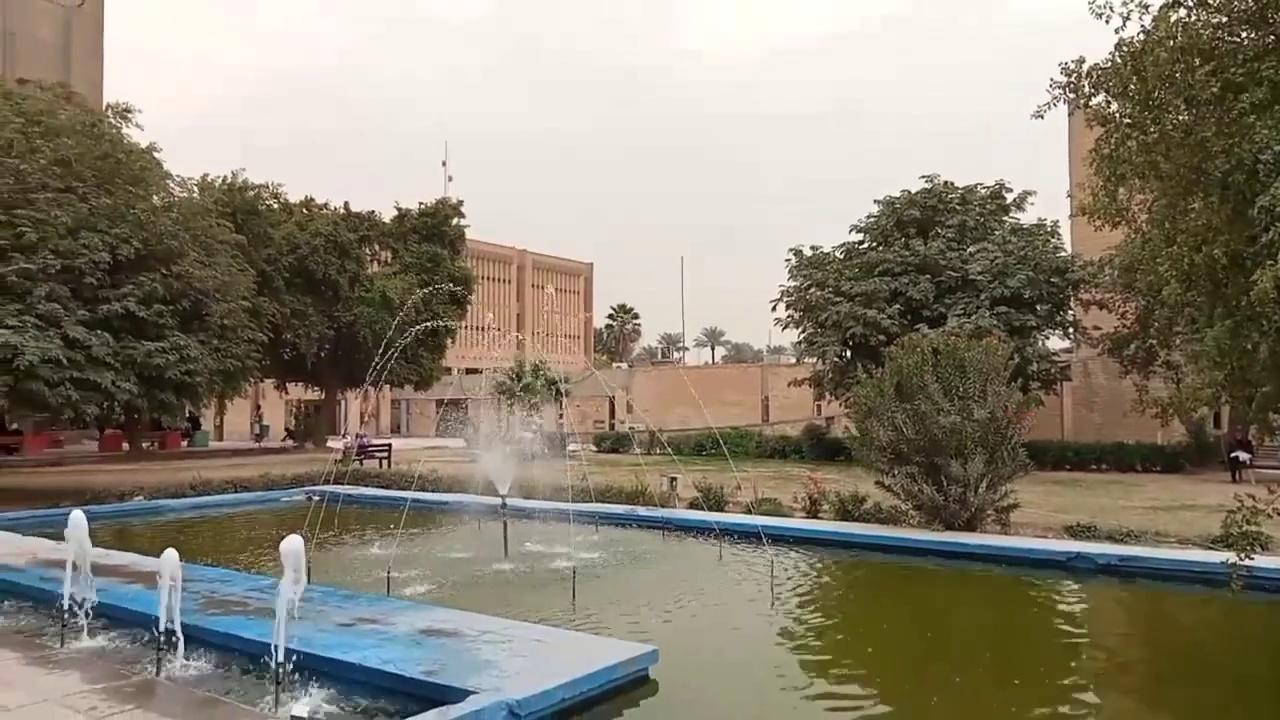fountain: (1, 283, 1277, 717), (1, 505, 660, 718), (130, 544, 218, 678), (264, 531, 309, 710), (52, 507, 104, 646), (152, 545, 184, 648), (478, 439, 520, 513)
person: (1227, 424, 1256, 485), (251, 403, 264, 446), (185, 409, 201, 432)
tree: (0, 73, 476, 452), (1029, 0, 1279, 456), (769, 171, 1105, 437), (0, 74, 191, 448), (257, 185, 475, 445), (838, 322, 1039, 534), (487, 350, 570, 422), (598, 301, 641, 362), (687, 474, 730, 511), (692, 324, 728, 364), (654, 330, 687, 362), (720, 340, 759, 363)
